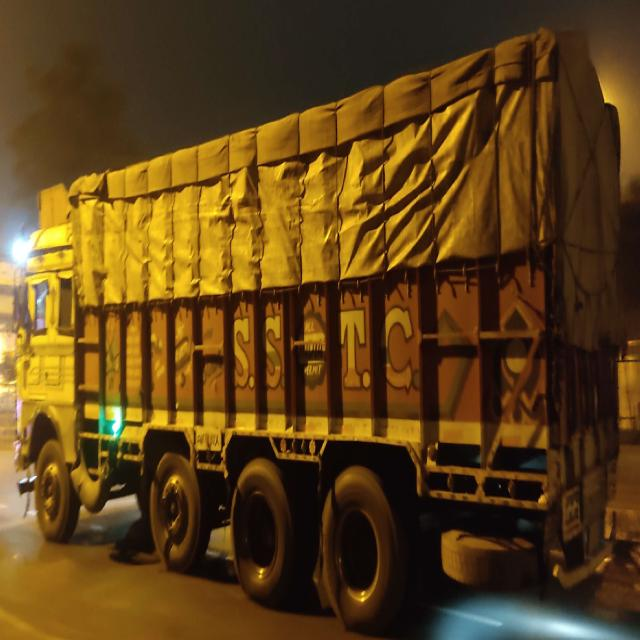truck: (13, 27, 626, 638)
